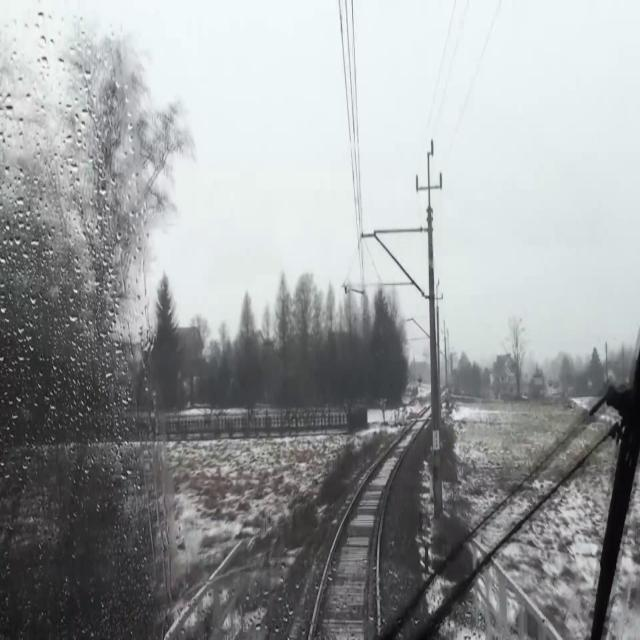rail-track: (312, 415, 425, 639)
